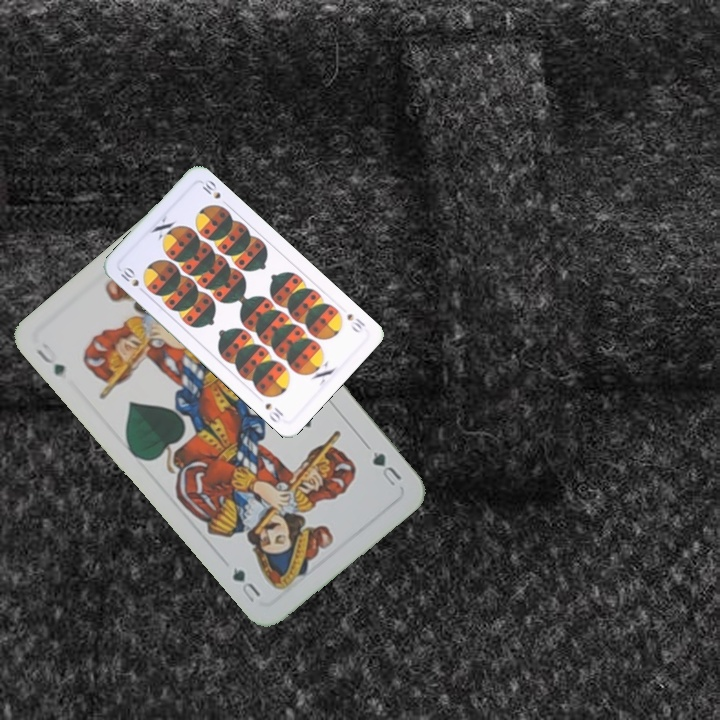GU: (368, 447, 405, 489), (31, 342, 68, 380)
S10: (116, 263, 142, 289), (343, 309, 368, 336)
